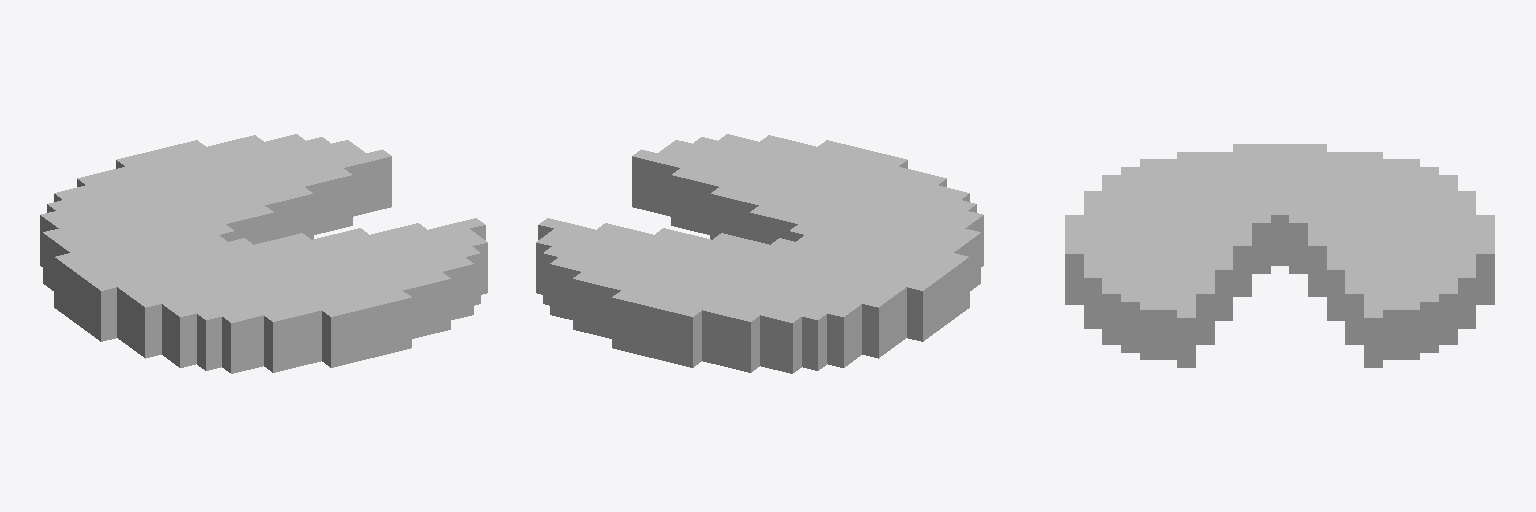
The model's file is Pac Man Frame 3.obj.
The picture shows the model from 3 angles: view 1: azimuth 30°, elevation 25°; view 2: azimuth 150°, elevation 25°; view 3: azimuth 270°, elevation 25°; orthographic projection.
Size of the model in its own units: 22 by 3 by 23.